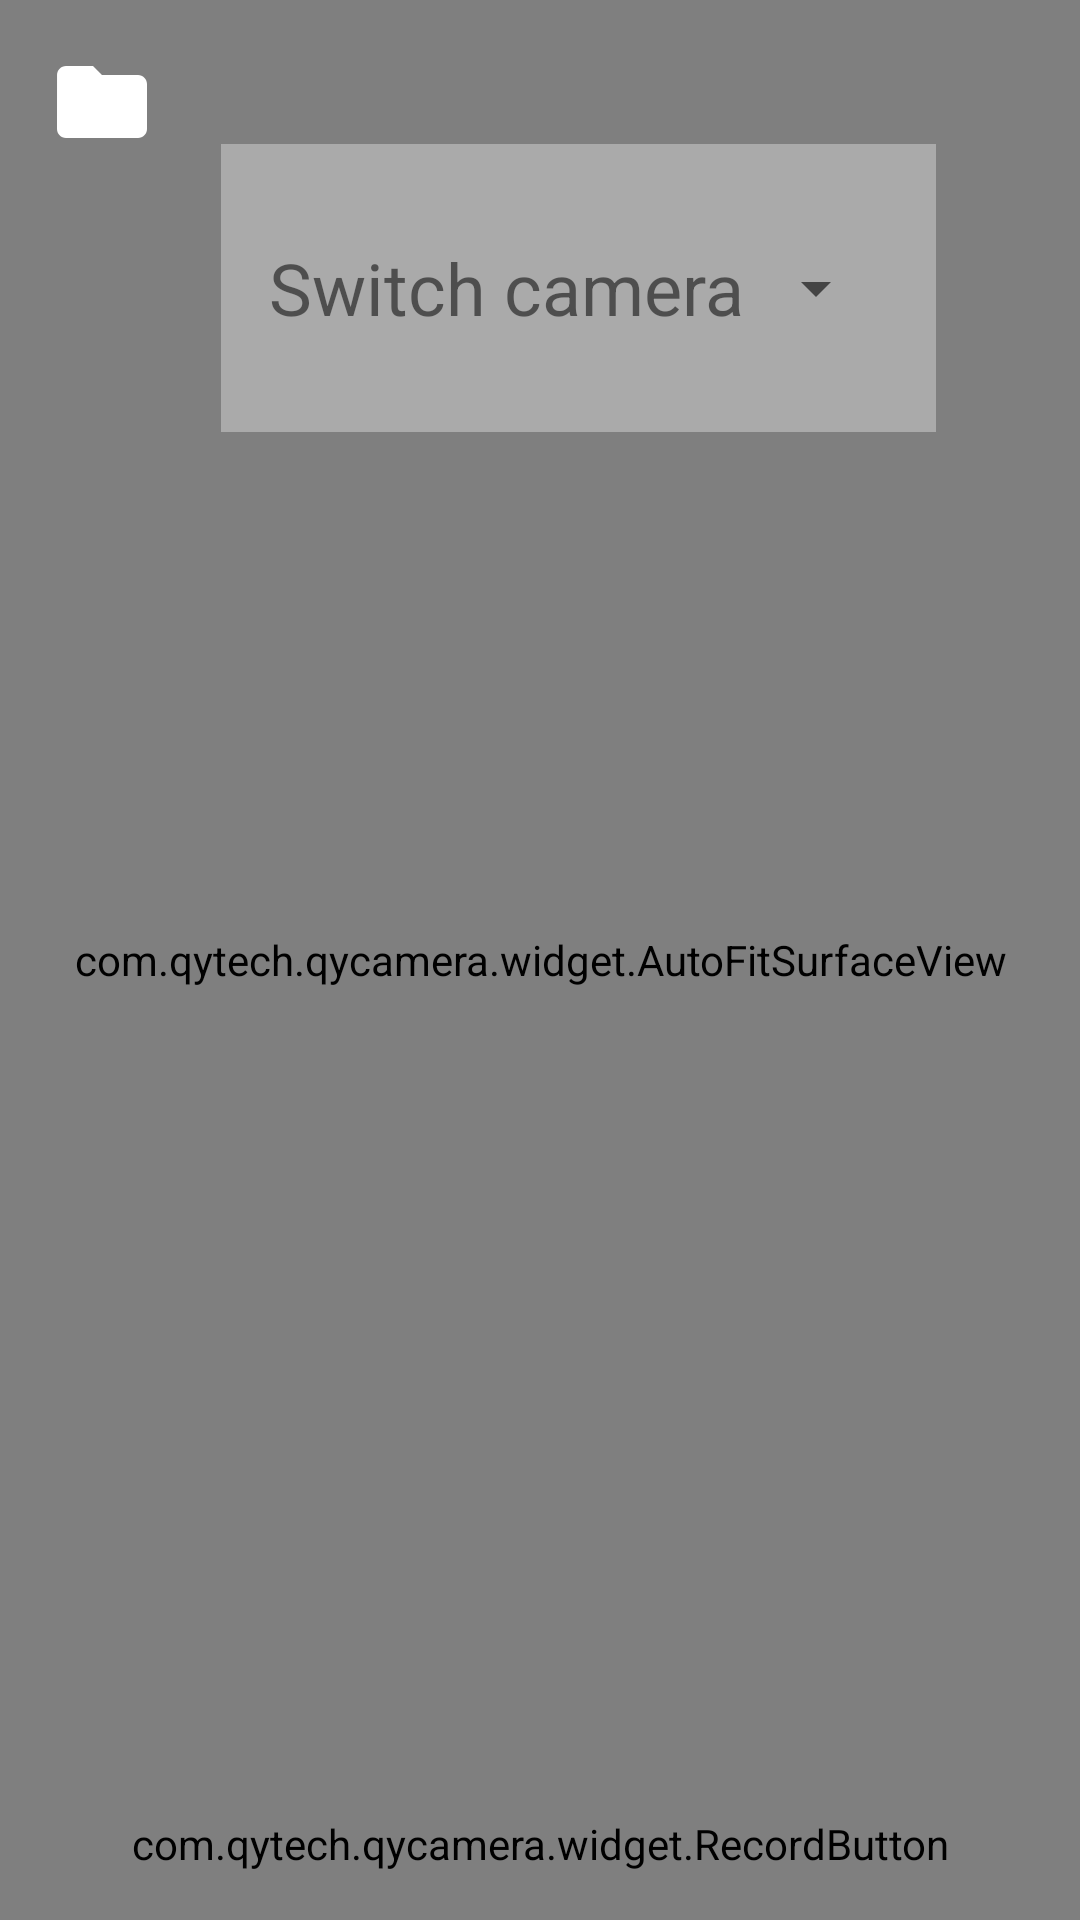

Named icons in this screenshot (1080*1920) and their bounding boxes, (x1, y1, x2, y2):
folder: (57, 66, 147, 138)
